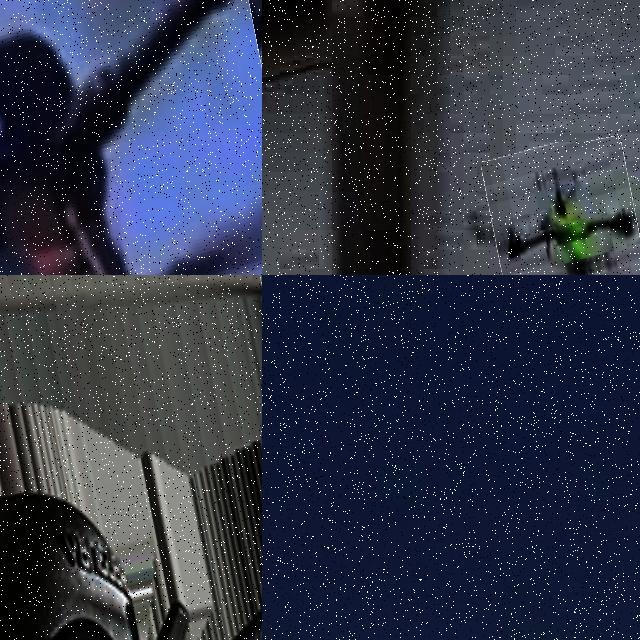0: (488, 142, 640, 275)
drone: (0, 275, 262, 640), (0, 0, 262, 275)
